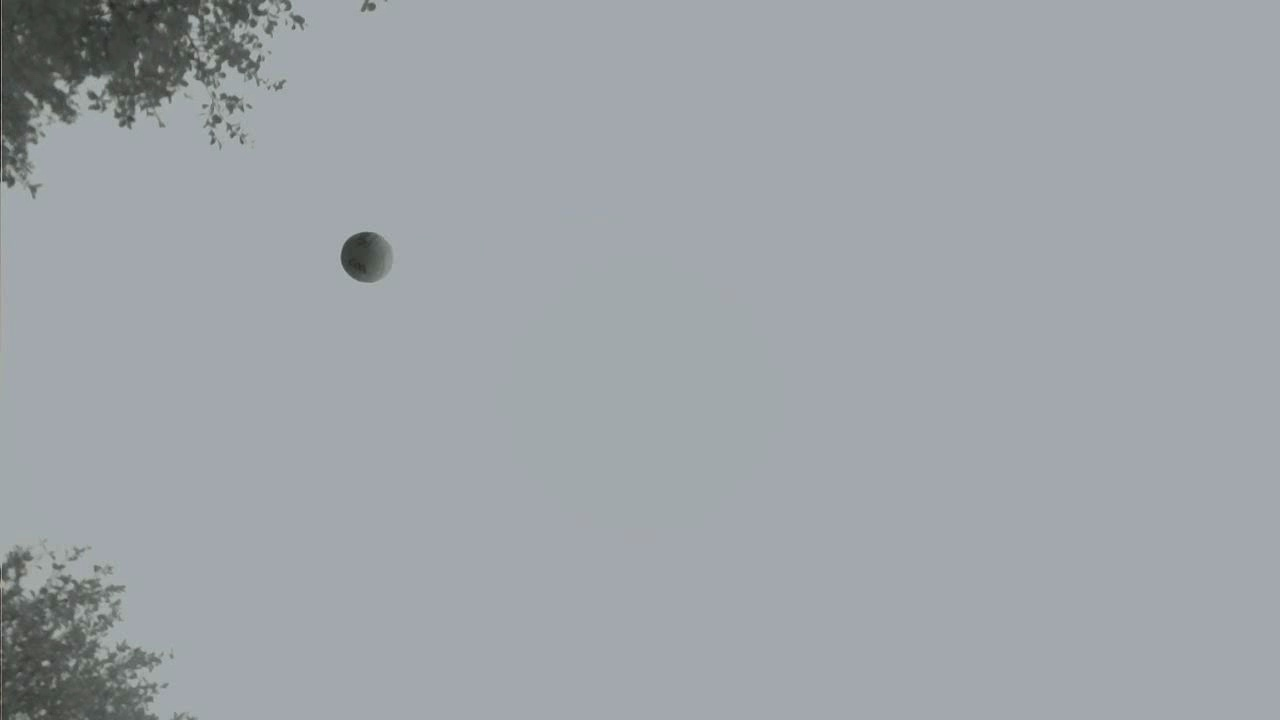Football-Spotter: (341, 233, 391, 281)
